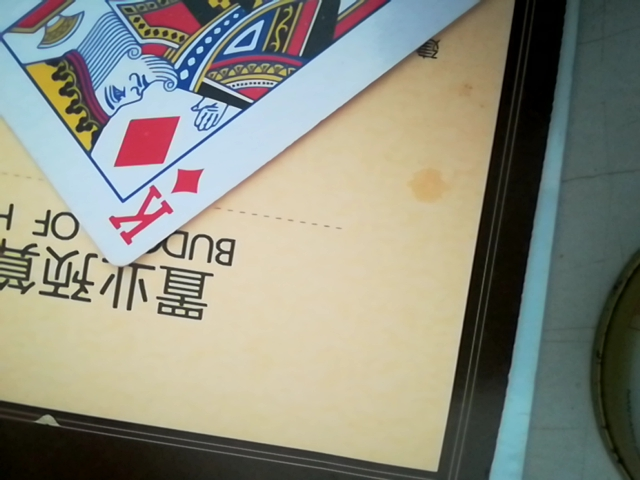fk k: (4, 0, 541, 267)
